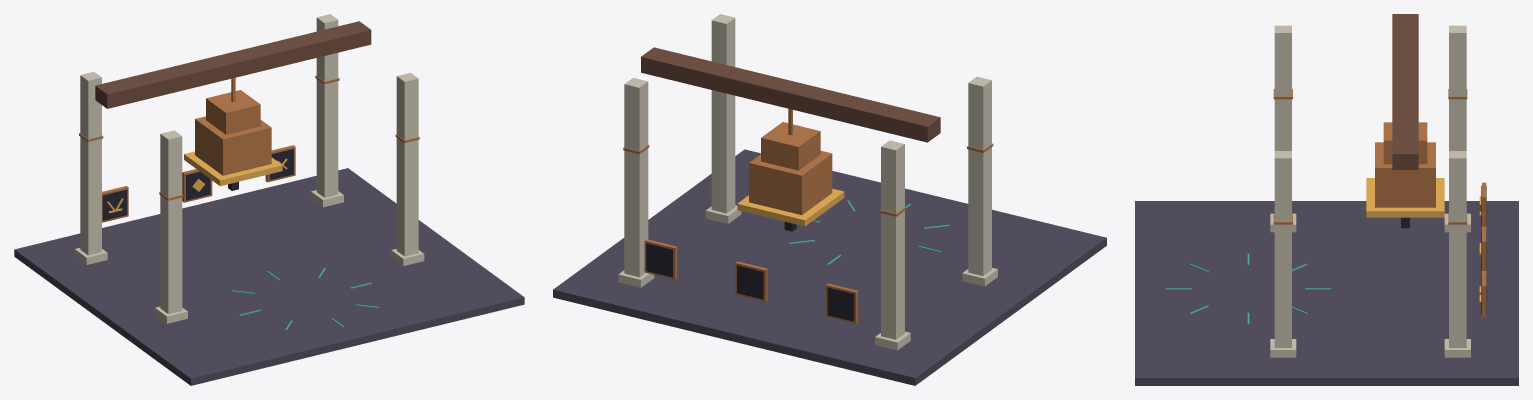
Rendered from bell_tower.glb.
3 views of the same model, side by side, from view 1: azimuth 30°, elevation 25°; view 2: azimuth 150°, elevation 25°; view 3: azimuth 270°, elevation 25° (orthographic). The views are drawn at different scales.
Visible parts, largest first — view 1: bell_tower; view 2: bell_tower; view 3: bell_tower.
Part boxes in pixels (x1,y1,x2,y2): bell_tower: (14,14,524,385); bell_tower: (553,14,1106,385); bell_tower: (1135,14,1518,385).
Bounding box in the file's own units: 48 × 27 × 44.
